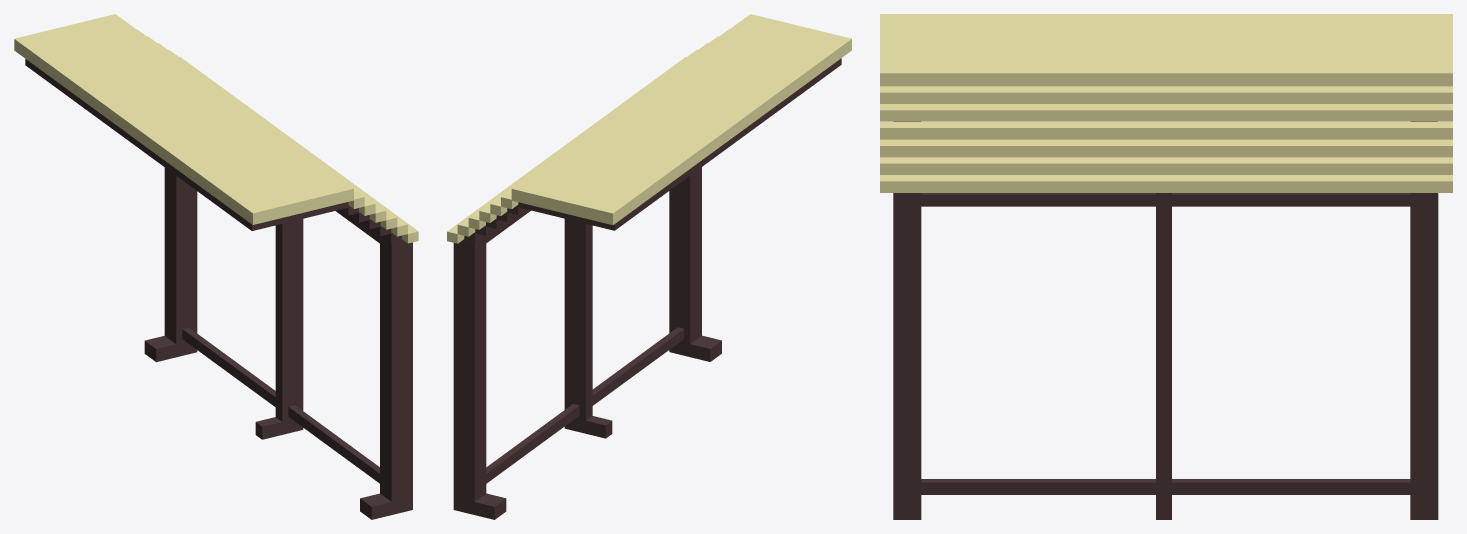
The model's file is Road_stand.FBX.
3 renders of one model, left to right at view 1: azimuth 30°, elevation 25°; view 2: azimuth 150°, elevation 25°; view 3: azimuth 270°, elevation 25°, orthographic. The views are drawn at different scales.
Parts seen in each view (by area): view 1: Road_stand; view 2: Road_stand; view 3: Road_stand.
Part boxes in pixels (left/top/right/bottom): Road_stand: left=14, top=14, right=418, bottom=519; Road_stand: left=447, top=14, right=851, bottom=519; Road_stand: left=880, top=14, right=1452, bottom=519.
Size of the model in its own units: 31.15 by 61.14 by 77.58.
1 material, 1 textured.
